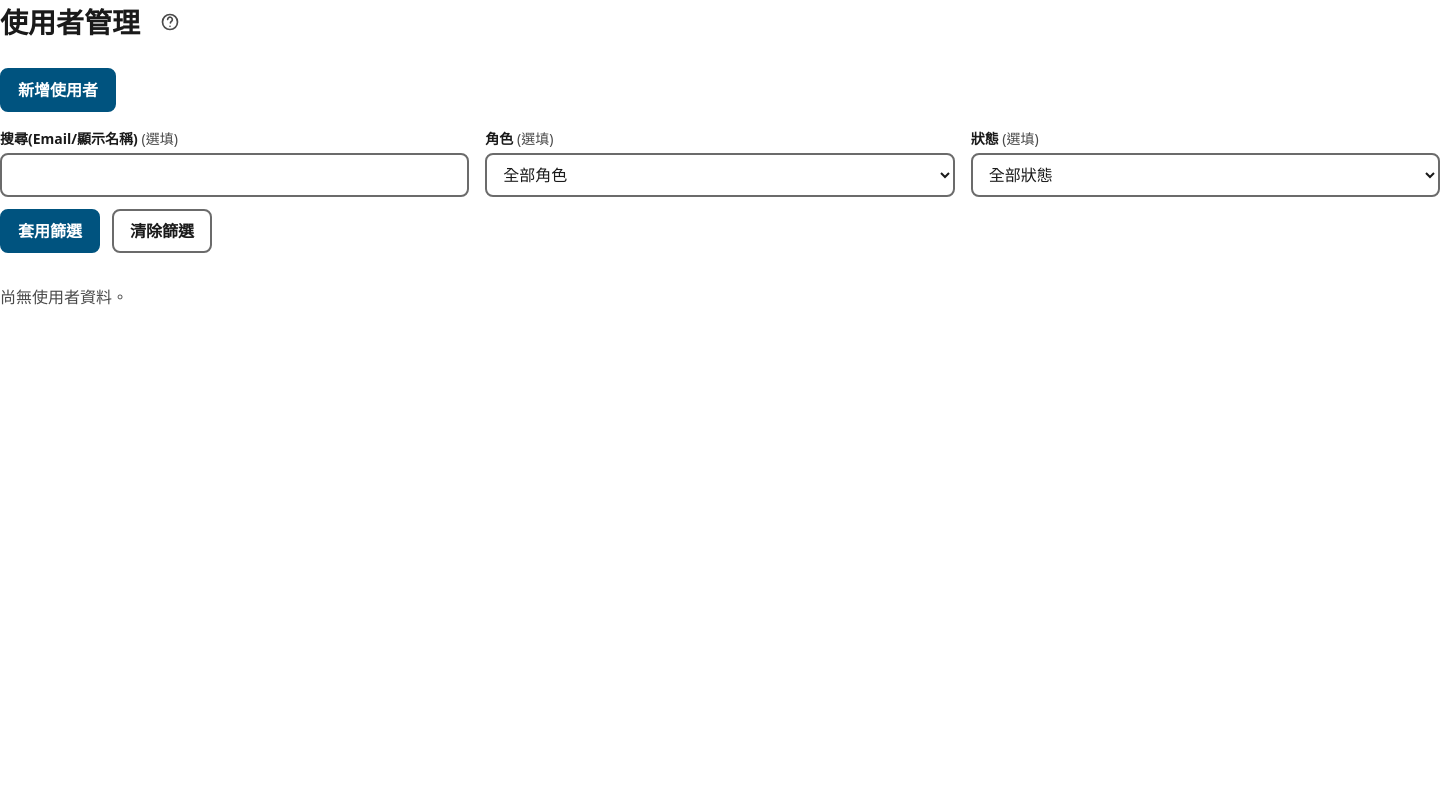
Scenario: UsersAdminPage › shows a friendly EMAIL_EXISTS error from the backend on create
Click the button "新增使用者".
click(58, 90)  # box 0,68 -> 116,112
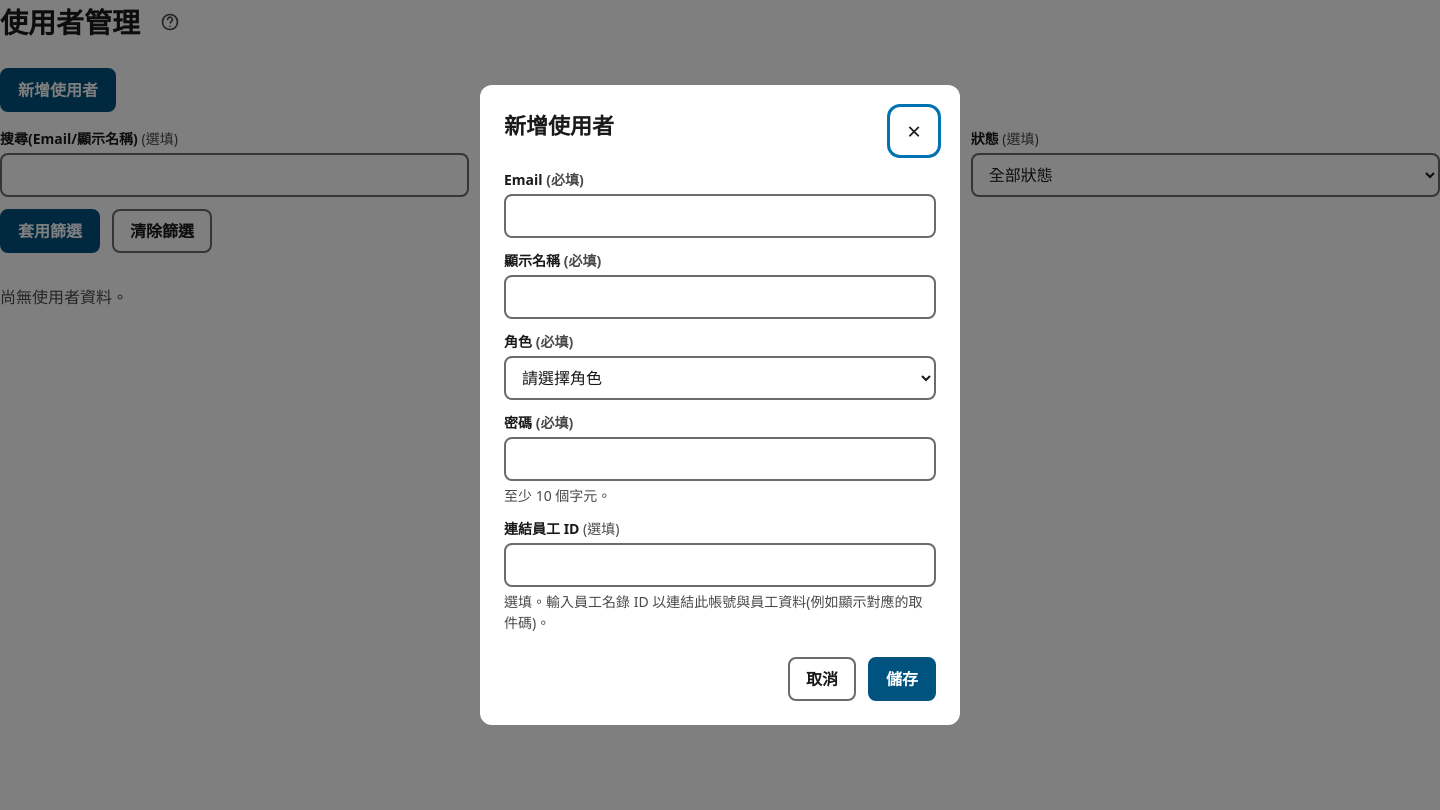
Type "dup@example.com" into the field labelled "Email (必填)".
click(720, 216); type("dup@example.com")  # box 504,194 -> 936,238
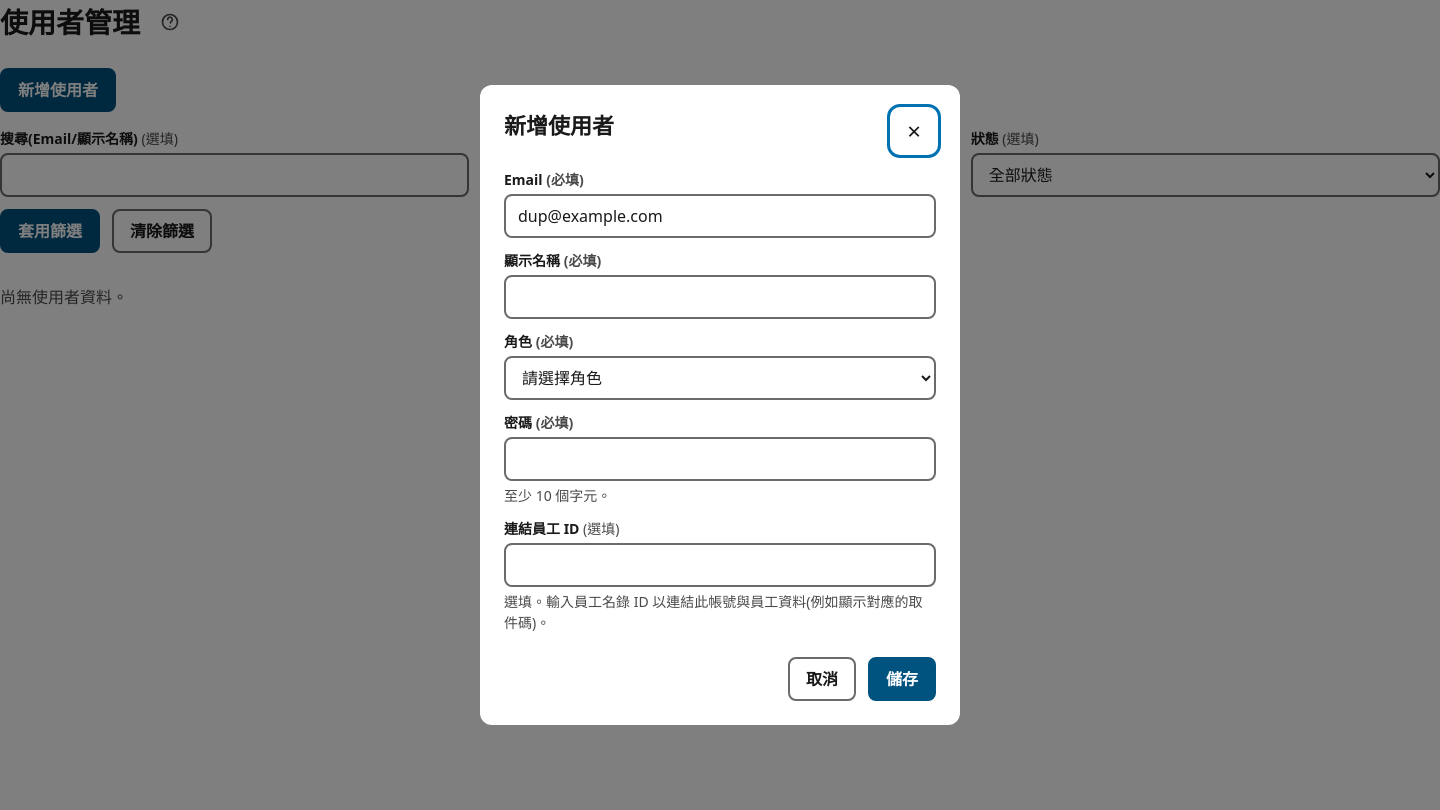
Type "新使用者" into the field labelled "顯示名稱 (必填)".
click(720, 297); type("新使用者")  # box 504,275 -> 936,319
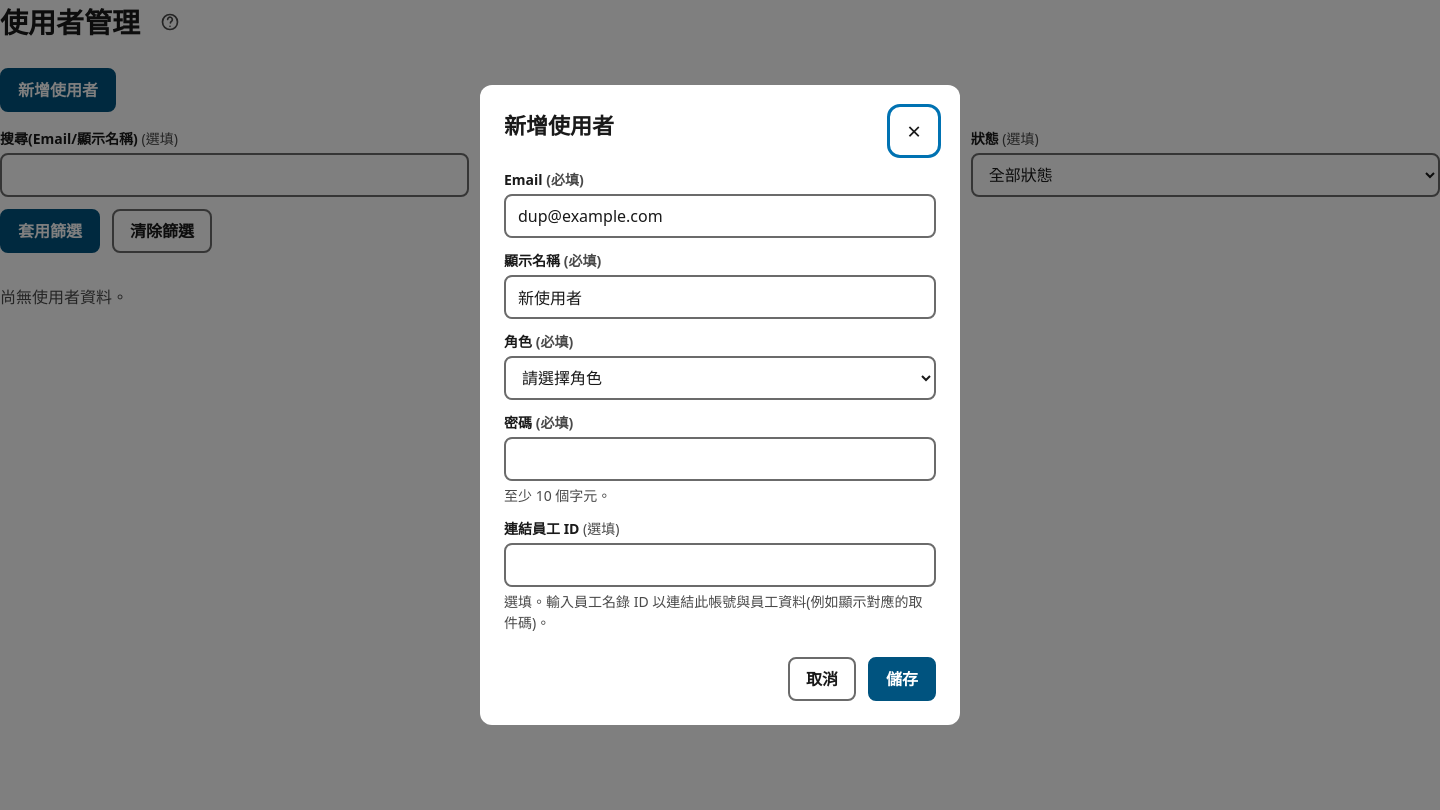
Select "櫃台" in the dropdown labelled "角色 (必填)" at {"x": 720, "y": 378}, box 504,356 -> 936,400
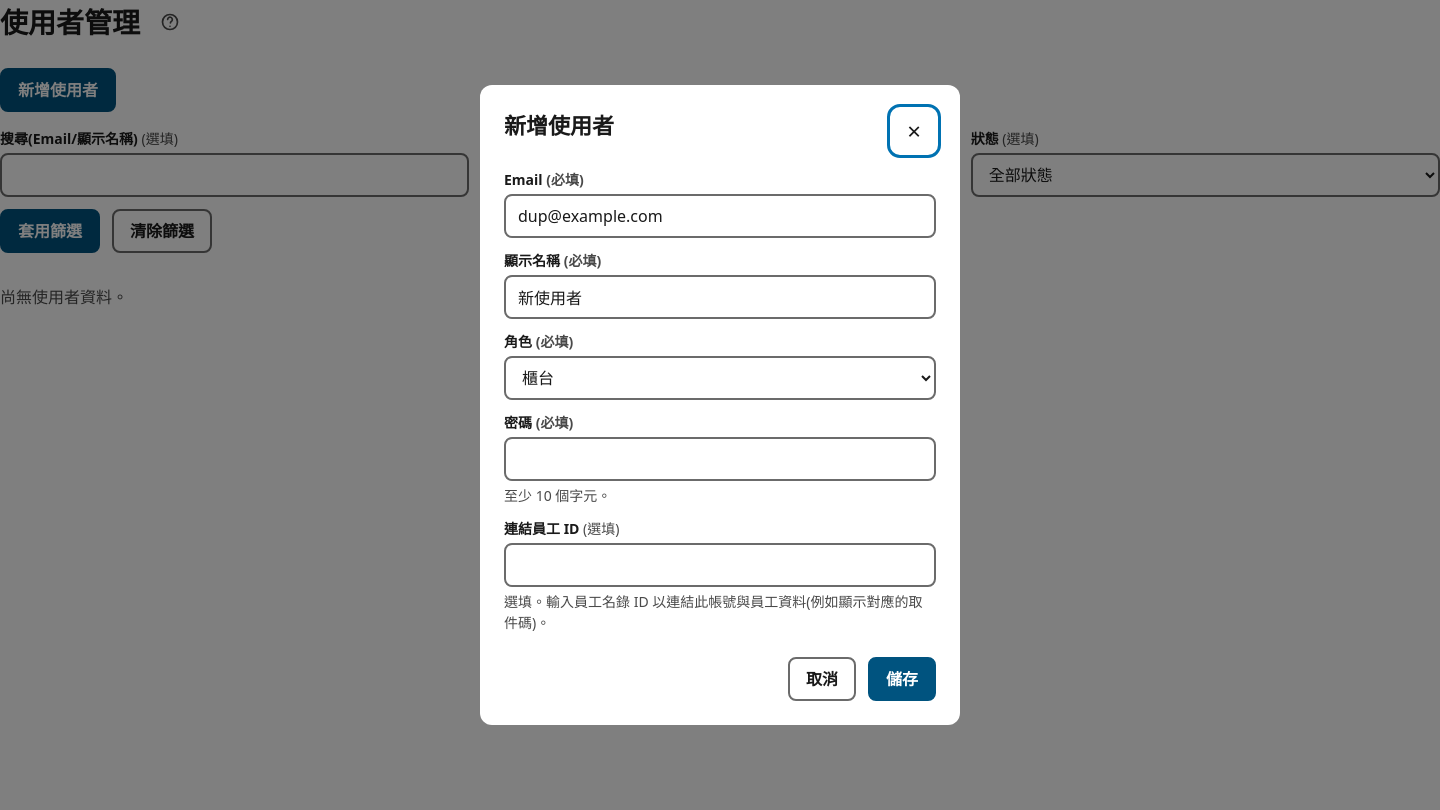
Type "longenoughpassword" into the password field labelled "密碼 (必填)".
click(720, 459); type("longenoughpassword")  # box 504,437 -> 936,481
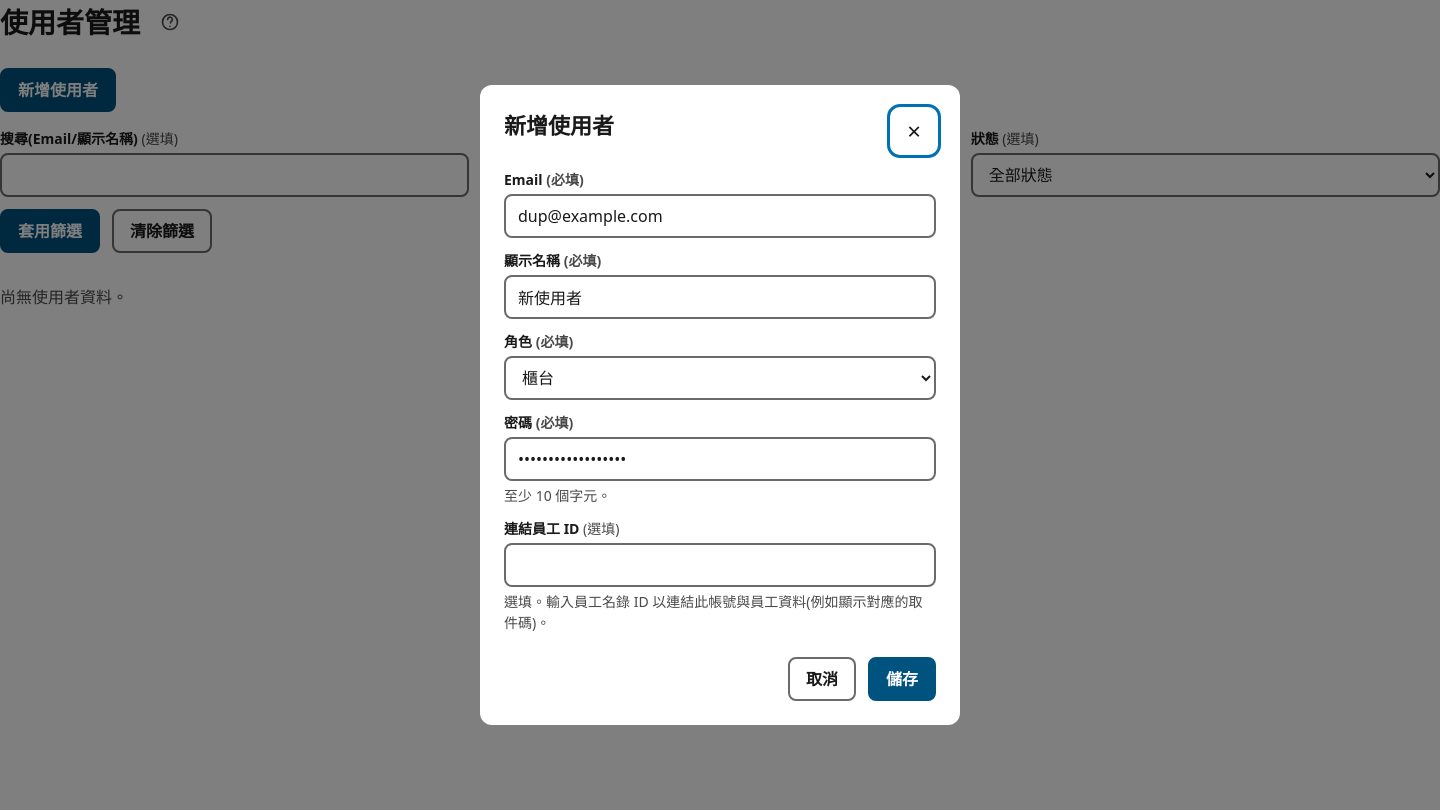
Submit the form, box 504,169 -> 936,633
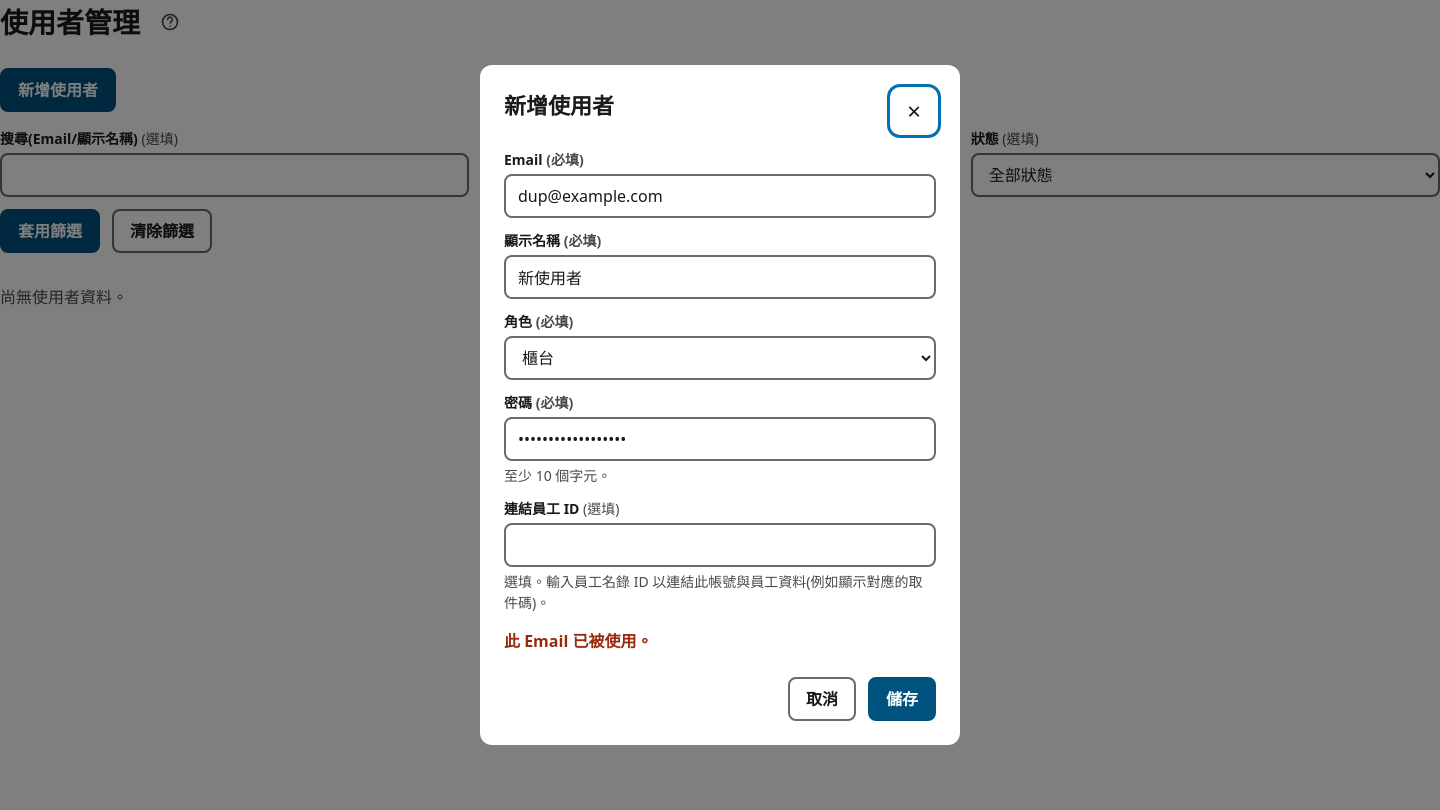
Check: the dialog with class "app-dialog" shows "此 Email 已被使用", box 504,630 -> 652,652
